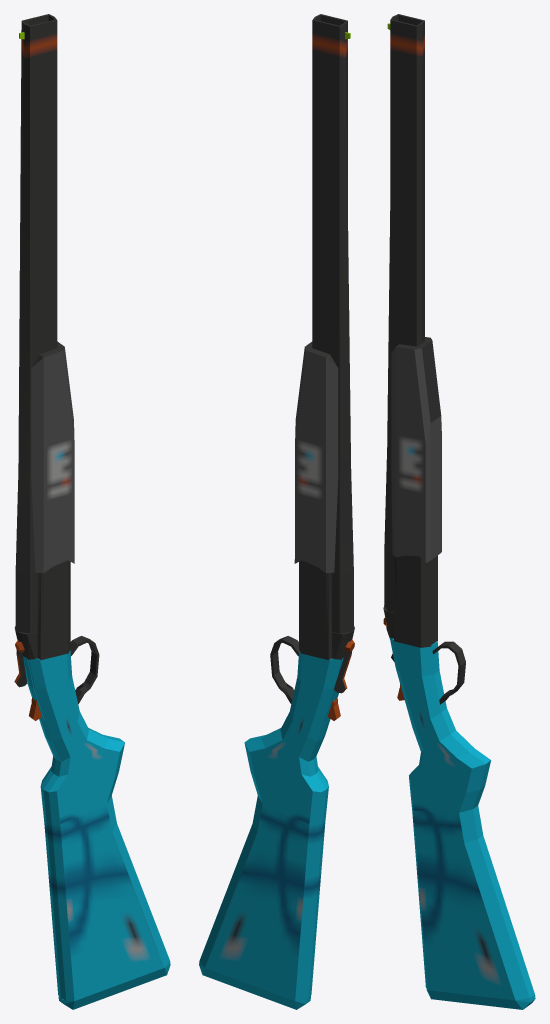
The model's file is ReplikaRifle.fbx.
3 renders of one model, left to right at view 1: azimuth 30°, elevation 25°; view 2: azimuth 150°, elevation 25°; view 3: azimuth 330°, elevation 25°, orthographic. The views are drawn at different scales.
Visible parts, largest first — view 1: Pistol Smol.003; view 2: Pistol Smol.003; view 3: Pistol Smol.003.
Boxes of the visible parts, x1,y1,x2,y2 form: Pistol Smol.003: (14,14,170,1009); Pistol Smol.003: (199,14,354,1009); Pistol Smol.003: (383,14,535,1009).
Size of the model in its own units: 0.0213 by 0.6984 by 0.1121.
